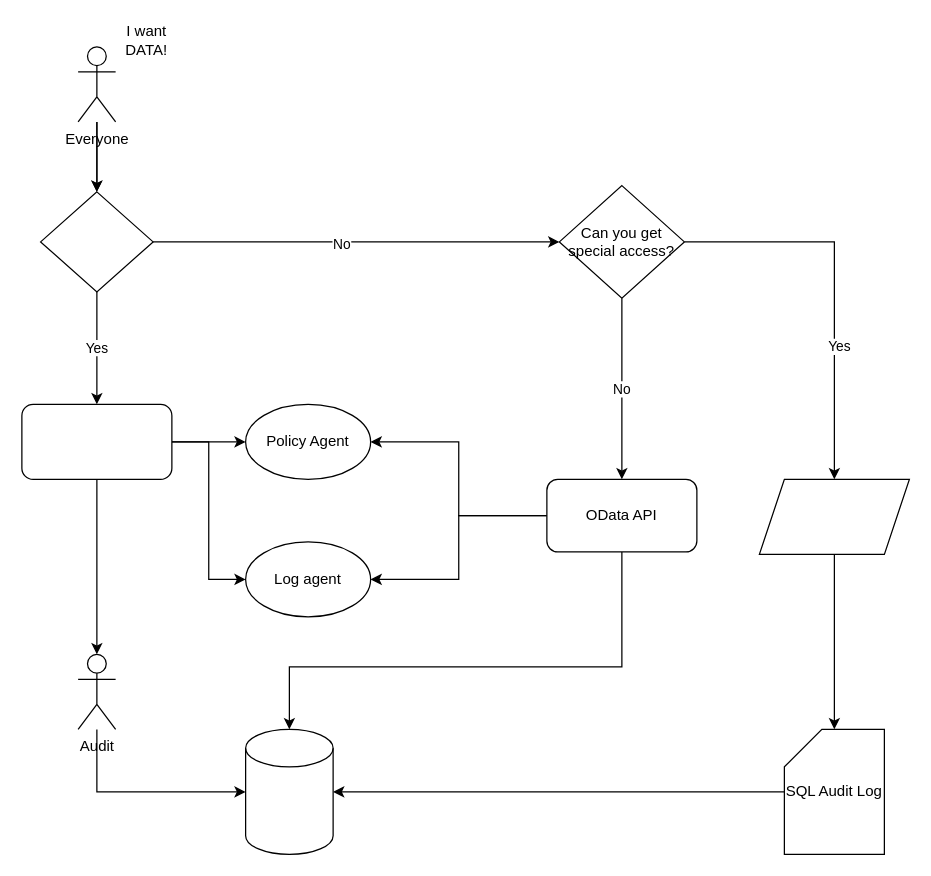
The diagram is 931 pixels wide and 876 high, and some of its shapes have lost their labels. Here are the shapes that lost their labels. From the top down, the box of each, then its label:
(39, 191, 153, 292): Will you follow the rules?
(21, 403, 172, 479): Service
(758, 478, 909, 554): Specific Views
(244, 728, 333, 854): DB
